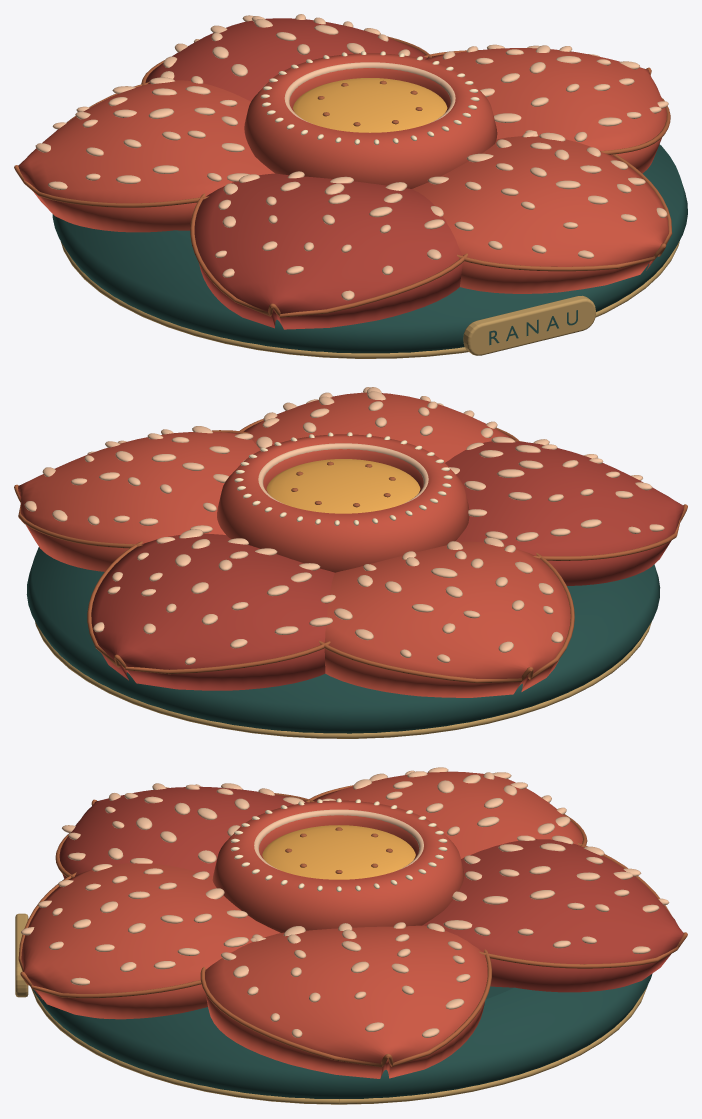
The picture shows the model from 3 angles, top to bottom: view 1: azimuth 30°, elevation 25°; view 2: azimuth 150°, elevation 25°; view 3: azimuth 270°, elevation 25°; orthographic projection.
Parts seen in each view (by area): view 1: Bunga Ranau | Rafflesia pouf - Corolla, Bunga Ranau | Rafflesia pouf - Turned fittings, Bunga Ranau | Rafflesia pouf - Corolla embroidery, Bunga Ranau | Rafflesia pouf - Cushions, Bunga Ranau | Rafflesia pouf - Graphics; view 2: Bunga Ranau | Rafflesia pouf - Corolla, Bunga Ranau | Rafflesia pouf - Turned fittings, Bunga Ranau | Rafflesia pouf - Corolla embroidery, Bunga Ranau | Rafflesia pouf - Cushions; view 3: Bunga Ranau | Rafflesia pouf - Corolla, Bunga Ranau | Rafflesia pouf - Turned fittings, Bunga Ranau | Rafflesia pouf - Corolla embroidery, Bunga Ranau | Rafflesia pouf - Cushions, Bunga Ranau | Rafflesia pouf - Graphics.
Boxes of the visible parts, x1=… form: Bunga Ranau | Rafflesia pouf - Corolla: x1=14, y1=18, x2=672, y2=329; Bunga Ranau | Rafflesia pouf - Turned fittings: x1=52, y1=53, x2=687, y2=358; Bunga Ranau | Rafflesia pouf - Corolla embroidery: x1=35, y1=14, x2=668, y2=300; Bunga Ranau | Rafflesia pouf - Cushions: x1=293, y1=78, x2=447, y2=132; Bunga Ranau | Rafflesia pouf - Graphics: x1=463, y1=295, x2=595, y2=355; Bunga Ranau | Rafflesia pouf - Corolla: x1=14, y1=392, x2=687, y2=697; Bunga Ranau | Rafflesia pouf - Turned fittings: x1=26, y1=434, x2=660, y2=738; Bunga Ranau | Rafflesia pouf - Corolla embroidery: x1=24, y1=387, x2=664, y2=664; Bunga Ranau | Rafflesia pouf - Cushions: x1=266, y1=459, x2=420, y2=513; Bunga Ranau | Rafflesia pouf - Corolla: x1=18, y1=771, x2=687, y2=1078; Bunga Ranau | Rafflesia pouf - Turned fittings: x1=31, y1=800, x2=652, y2=1104; Bunga Ranau | Rafflesia pouf - Corolla embroidery: x1=21, y1=767, x2=669, y2=1037; Bunga Ranau | Rafflesia pouf - Cushions: x1=262, y1=825, x2=415, y2=879; Bunga Ranau | Rafflesia pouf - Graphics: x1=15, y1=913, x2=28, y2=997.
Bounding box in the file's own units: 2.53 × 0.682 × 2.56.
